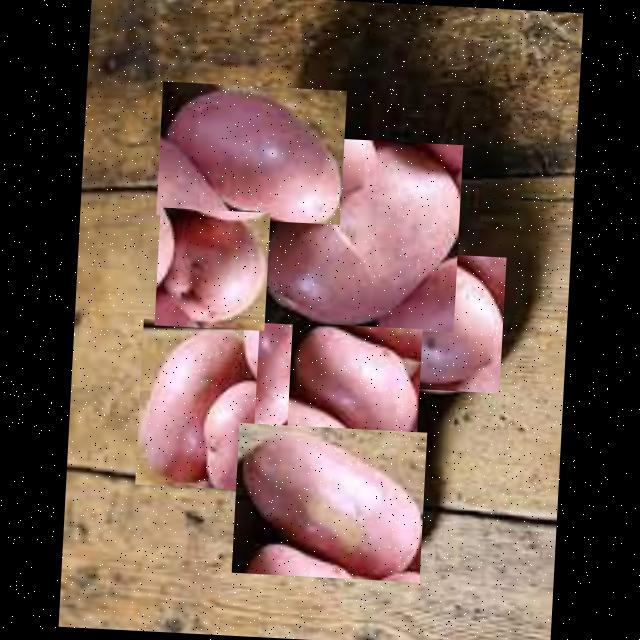Defected potato: (250, 135, 462, 333), (230, 422, 427, 582), (155, 82, 346, 225), (337, 250, 506, 394), (134, 318, 259, 491), (284, 322, 422, 466), (204, 292, 307, 435), (153, 208, 270, 332)
